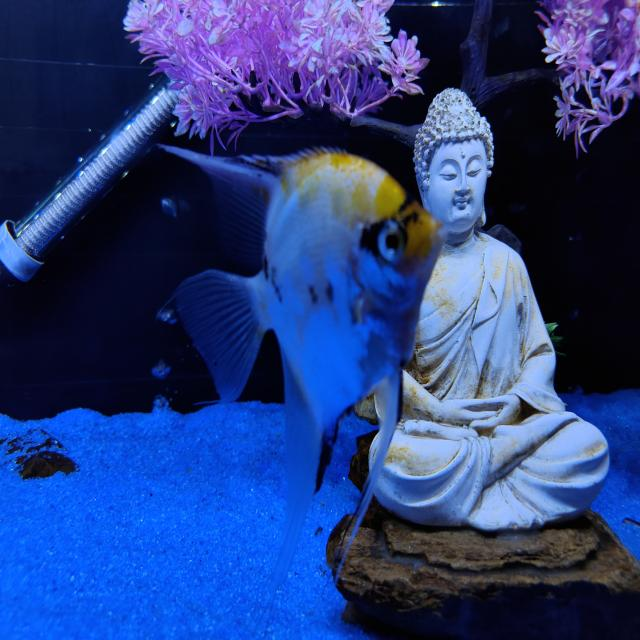Fish: (161, 146, 443, 594)
